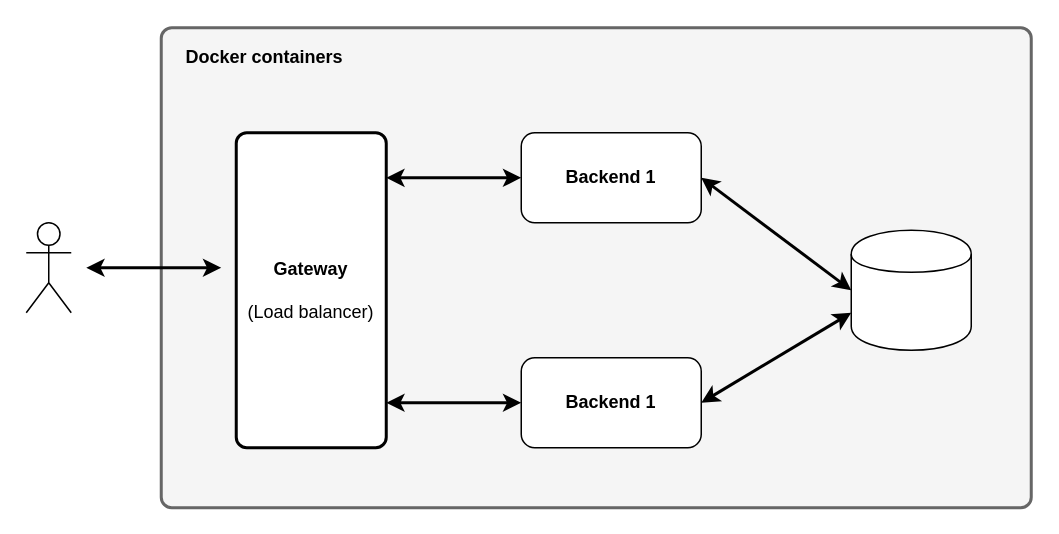
Some shapes in this 1059 by 534 pixel diagram are drawn without their labels. Each missing label, with the centre of its shape:
"MongoDB" goes at pixel 910 289.
"User" goes at pixel 48 267.
